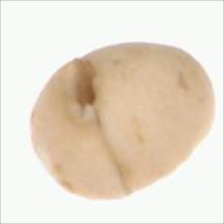L3: (68, 56, 101, 113)
L4: (30, 41, 215, 201)
